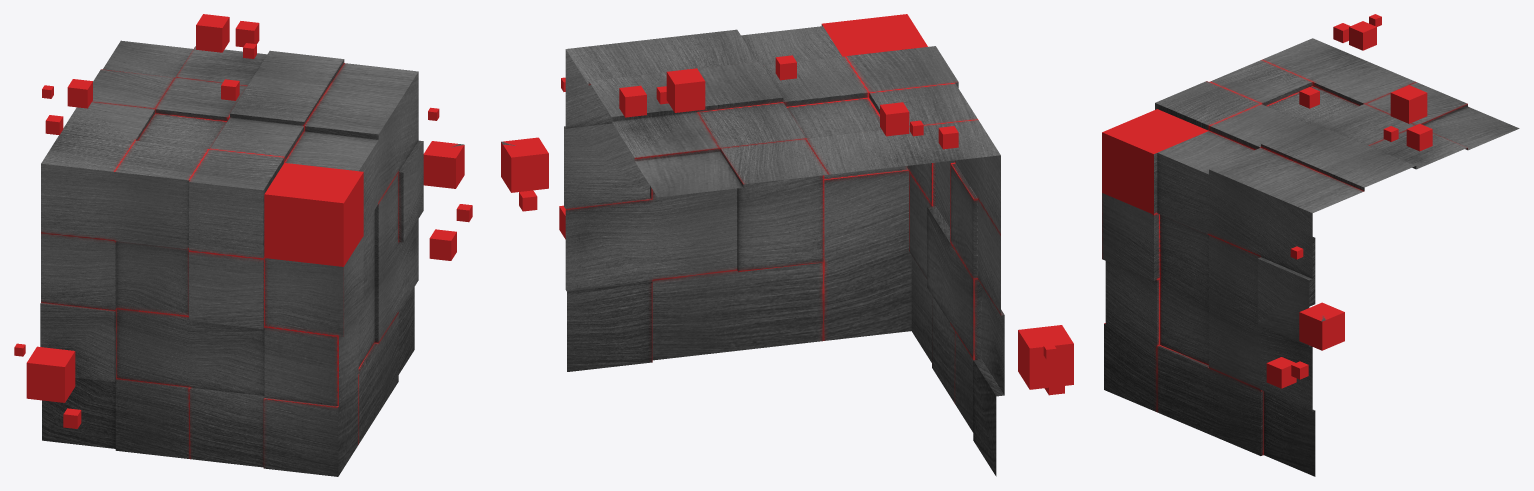
File: Boss.obj
3 views of the same model, side by side, from view 1: azimuth 30°, elevation 25°; view 2: azimuth 150°, elevation 25°; view 3: azimuth 270°, elevation 25° (orthographic). The views are drawn at different scales.
Parts seen in each view (by area): view 1: Cube.000_Cube.030; view 2: Cube.000_Cube.030; view 3: Cube.000_Cube.030.
Part boxes in pixels (x1,y1,x2,y2): Cube.000_Cube.030: [14, 14, 472, 476]; Cube.000_Cube.030: [501, 14, 1073, 476]; Cube.000_Cube.030: [1102, 14, 1519, 476].
Bounding box in the file's own units: 13.3 × 8.97 × 10.84.
